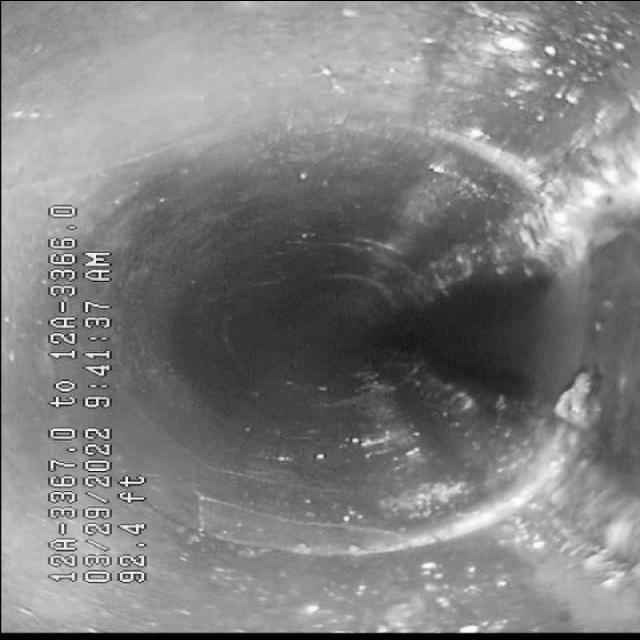Crack: (167, 484, 396, 534)
